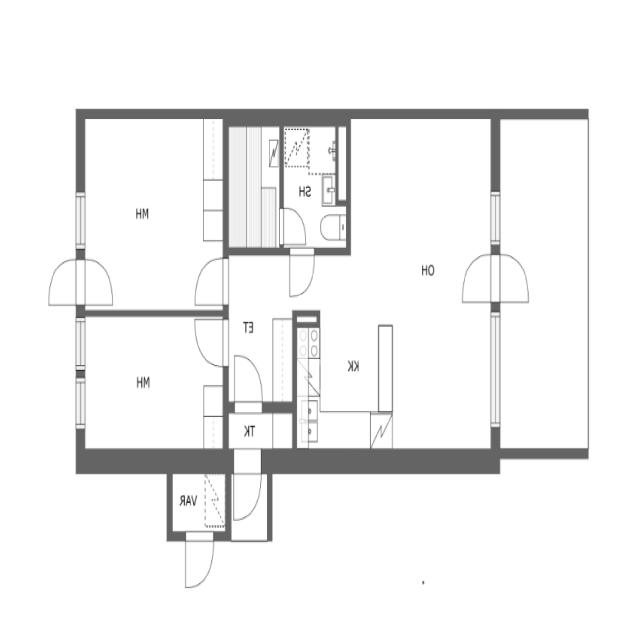door: (180, 529, 218, 594), (458, 248, 497, 306), (192, 312, 228, 370), (230, 464, 264, 525), (232, 350, 265, 412), (191, 255, 227, 310), (496, 250, 532, 304), (46, 256, 82, 309), (286, 244, 318, 300), (80, 256, 114, 308), (279, 203, 309, 247)
window: (74, 323, 86, 437), (490, 314, 501, 430), (74, 185, 88, 253), (488, 186, 502, 247)
zone: (350, 113, 500, 448), (495, 116, 590, 446), (80, 113, 227, 311), (79, 311, 227, 458), (293, 245, 392, 449), (226, 252, 292, 459), (283, 122, 344, 252), (227, 121, 280, 252)
